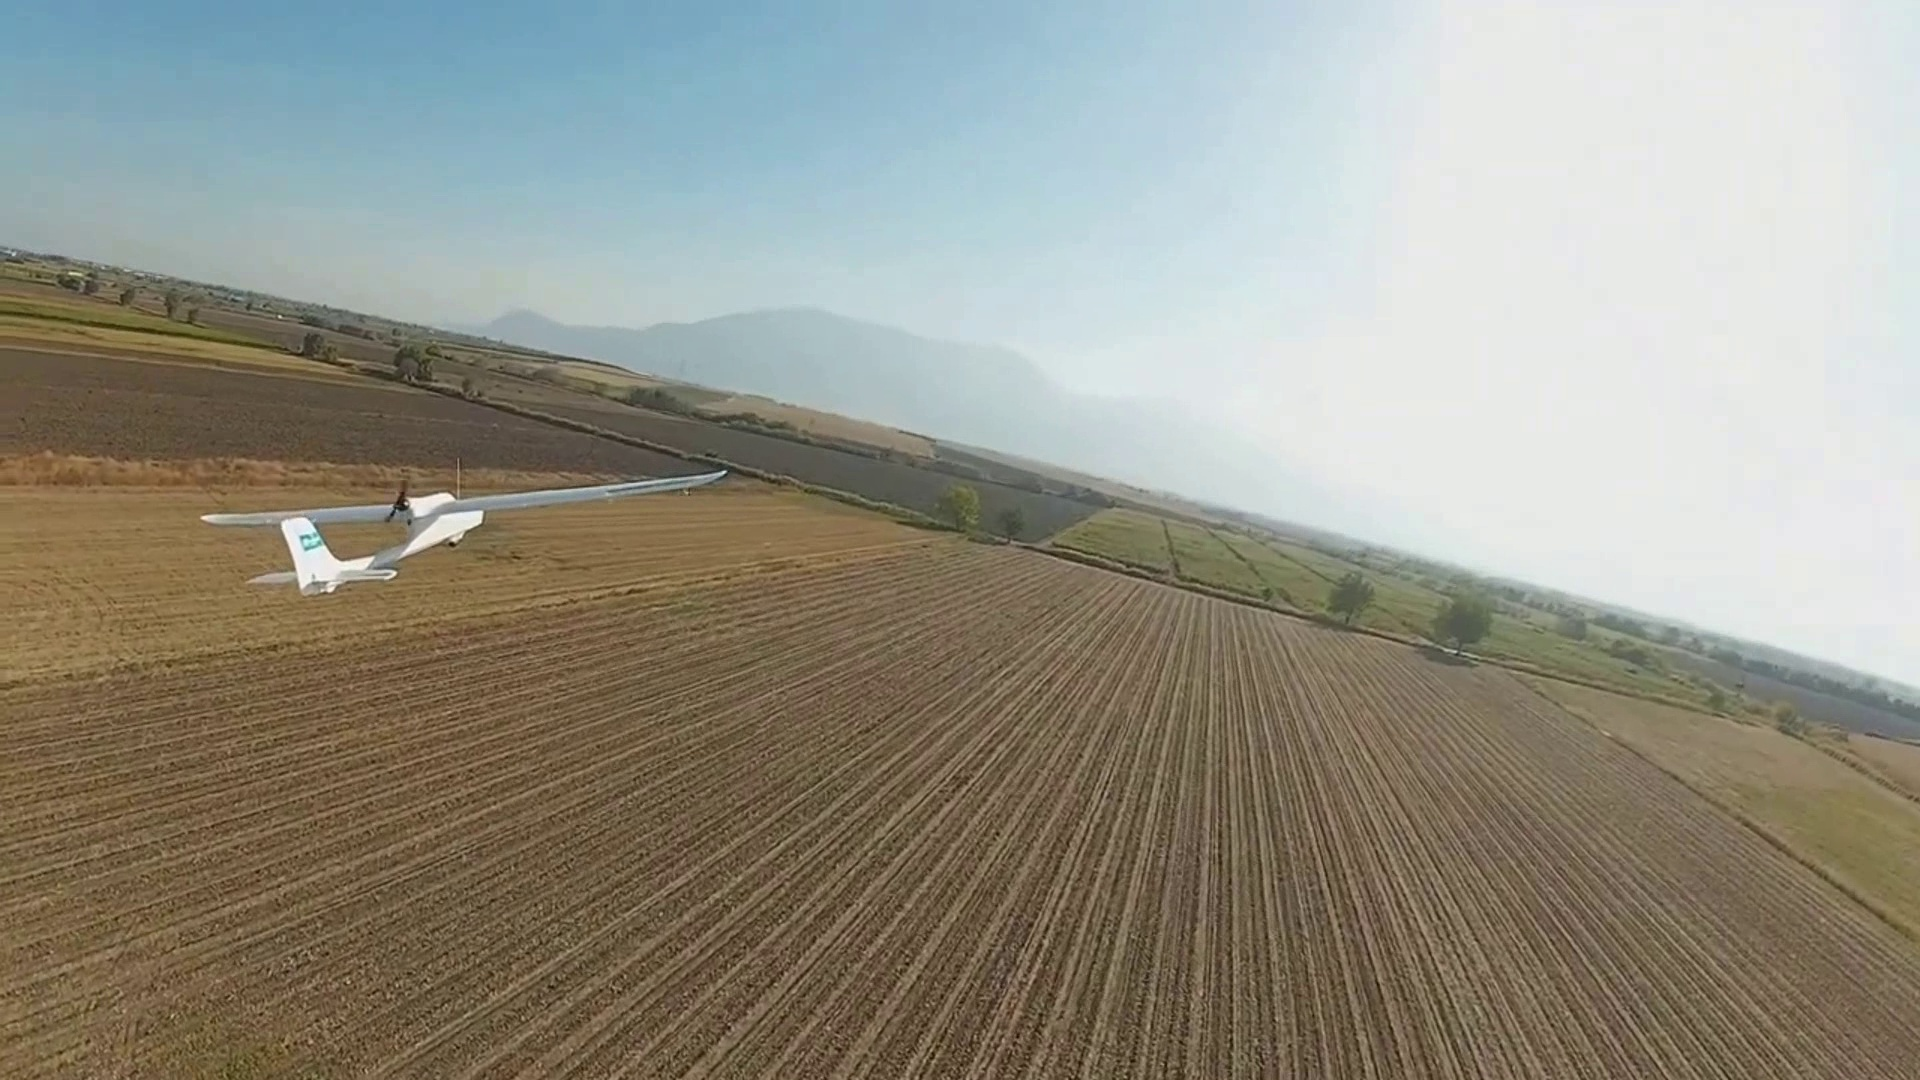airplane: (200, 464, 727, 593)
